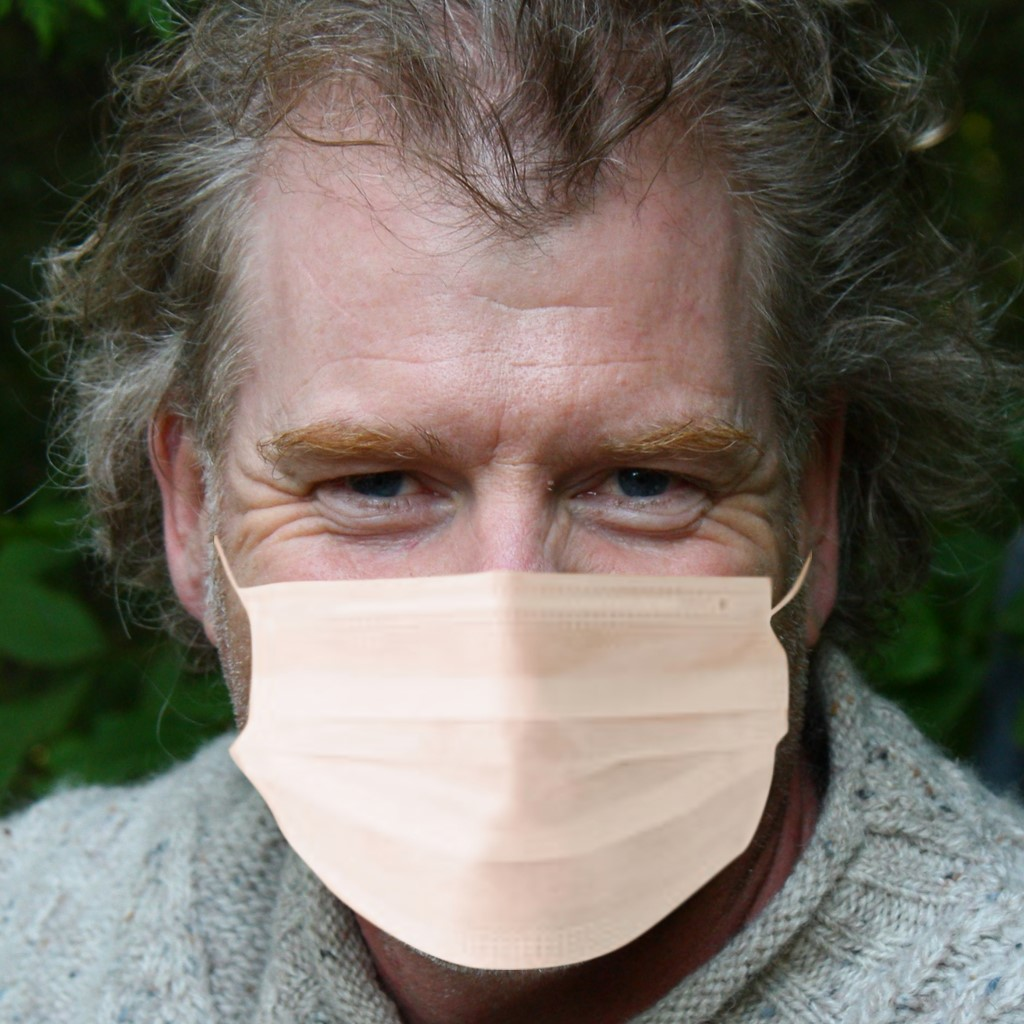con_mascara: (150, 84, 856, 967)
